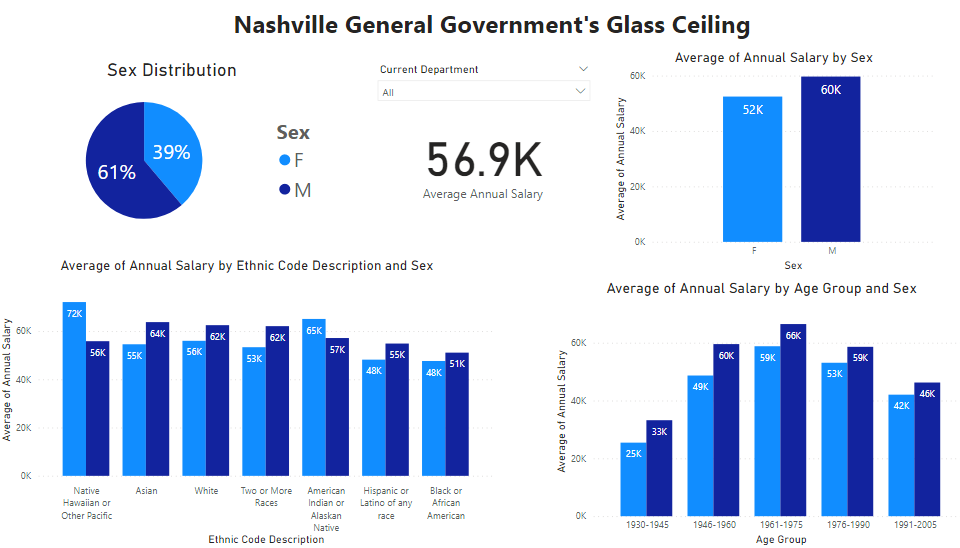

This screenshot's page, from the dashboard's own definition file:
{"tool":"powerbi","page":{"name":"Page 1","canvas":[1280,720],"ordinal":0},"visuals":[{"type":"textbox","box":[52.3,2.8,1196,67.4],"z":0},{"type":"columnChart","title":"Average of Annual Salary by Sex","fields":{"Category":["General_Government_Employees_Demographics.Gender"],"Y":["Avg(General_Government_Employees_Demographics.Annual Salary)"],"Series":["General_Government_Employees_Demographics.Gender"]},"box":[804.6,63.8,430,295.6],"z":1000},{"type":"card","title":"Avg Annual Salary of","fields":{"Values":["Avg(General_Government_Employees_Demographics.Annual Salary)"]},"box":[528.5,103.6,220.3,213.8],"z":2000},{"type":"clusteredColumnChart","title":"Average of Annual Salary by Ethnic Code Description and Sex","fields":{"Category":["General_Government_Employees_Demographics.Ethnic Code Description"],"Y":["Avg(General_Government_Employees_Demographics.Annual Salary)"],"Series":["General_Government_Employees_Demographics.Gender"]},"box":[0,337,727.9,383],"z":3000},{"type":"clusteredColumnChart","title":"Average of Annual Salary by Age Group and Sex","fields":{"Category":["General_Government_Employees_Demographics.Age Group"],"Y":["Avg(General_Government_Employees_Demographics.Annual Salary)"],"Series":["General_Government_Employees_Demographics.Gender"]},"box":[727.3,366.2,552.7,354.4],"z":4000},{"type":"pieChart","title":"Sex Distribution","fields":{"Category":["General_Government_Employees_Demographics.Gender"],"Y":["CountNonNull(General_Government_Employees_Demographics.Gender)"]},"box":[15.1,77.3,430,238.5],"z":5000},{"type":"slicer","fields":{"Values":["General_Government_Employees_Demographics.Current Department"]},"box":[490.5,77.3,299,77.3],"z":6000}]}

Visuals, with their boxes in screenshot pixels (x1, y1, x2, y2), scaled from the page's 1280x720 canvas onto the 960x548 screenshot:
textbox: rect(39, 2, 936, 53)
"Average of Annual Salary by Sex" columnChart: rect(603, 49, 926, 274)
"Avg Annual Salary of" card: rect(396, 79, 562, 242)
"Average of Annual Salary by Ethnic Code Description and Sex" clusteredColumnChart: rect(0, 256, 546, 547)
"Average of Annual Salary by Age Group and Sex" clusteredColumnChart: rect(545, 279, 959, 547)
"Sex Distribution" pieChart: rect(11, 59, 334, 240)
slicer - General_Government_Employees_Demographics.Current Department: rect(368, 59, 592, 118)
